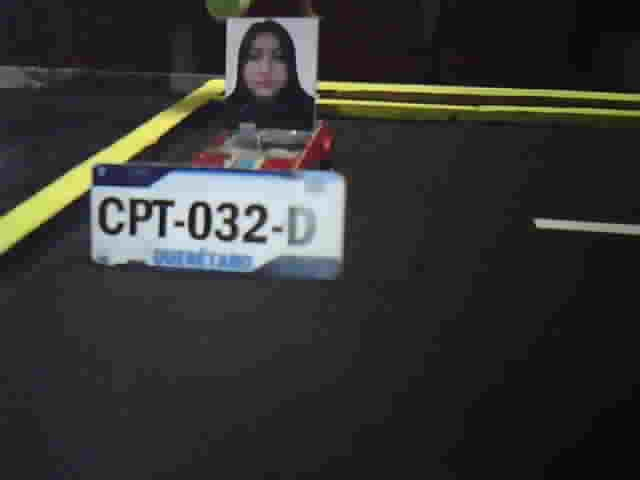PLACA: (87, 162, 352, 284)
ROSTRO: (227, 19, 314, 131)
